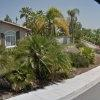Palm tree: (18, 3, 80, 34)
